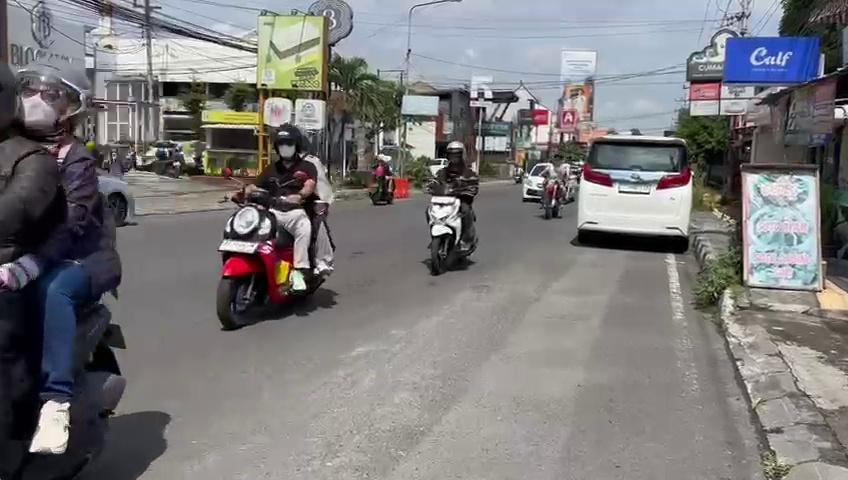helm: (266, 121, 305, 163)
riding: (206, 116, 353, 338)
